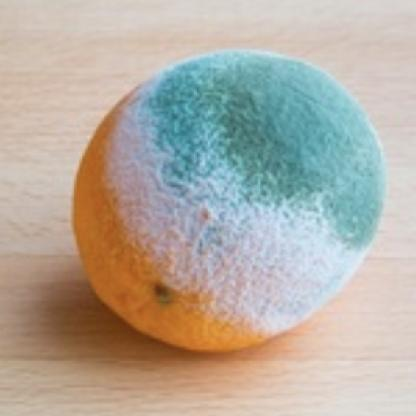rotten: (70, 53, 386, 351)
